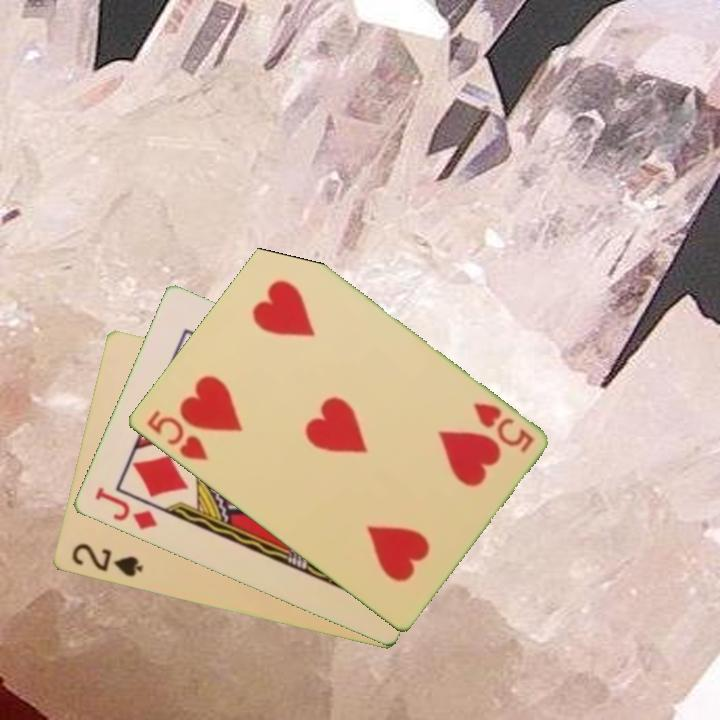2s: (67, 540, 146, 580)
5h: (143, 406, 211, 464), (469, 399, 537, 455)
Jd: (90, 484, 160, 533)
